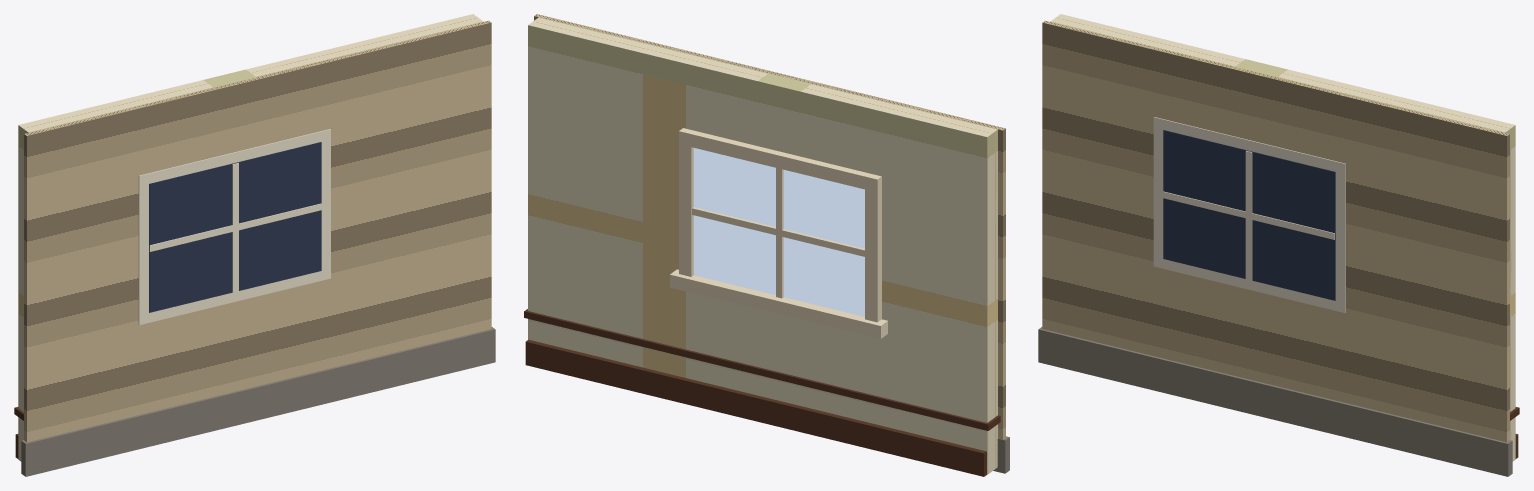
The model's file is kit_south.glb.
3 views of the same model, side by side, from view 1: azimuth 30°, elevation 25°; view 2: azimuth 150°, elevation 25°; view 3: azimuth 330°, elevation 25° (orthographic).
Visible parts, largest first — view 1: Box14, Box11, Box15, Box1, Box10, Box13, Box12; view 2: Box1, Box7, Box2, Box16, Box14, Box17, Box4, Box3, Box6, Box5, Box9, Box8; view 3: Box14, Box11, Box15, Box10, Box1, Box13, Box12.
Boxes of the visible parts, box(x1,y1,x2,y2) form: Box14: box(24, 20, 491, 442); Box11: box(149, 142, 321, 312); Box15: box(21, 327, 495, 476); Box1: box(18, 14, 483, 461); Box10: box(138, 129, 330, 325); Box13: box(149, 203, 321, 251); Box12: box(232, 163, 238, 292); Box1: box(528, 17, 997, 474); Box7: box(693, 148, 864, 316); Box2: box(525, 339, 986, 476); Box16: box(528, 319, 997, 473); Box14: box(534, 14, 1005, 439); Box17: box(524, 309, 1000, 430); Box4: box(670, 269, 887, 338); Box3: box(679, 128, 881, 192); Box6: box(865, 189, 881, 322); Box5: box(679, 144, 693, 276); Box9: box(692, 207, 864, 256); Box8: box(776, 168, 783, 298); Box14: box(1042, 20, 1509, 442); Box11: box(1163, 130, 1335, 300); Box15: box(1038, 327, 1512, 476); Box10: box(1153, 117, 1345, 313); Box1: box(1050, 14, 1515, 461); Box13: box(1163, 191, 1334, 239); Box12: box(1245, 150, 1252, 280).
Bounding box in the file's own units: 3.82 × 2.64 × 0.31.
8 materials, 2 textured.
